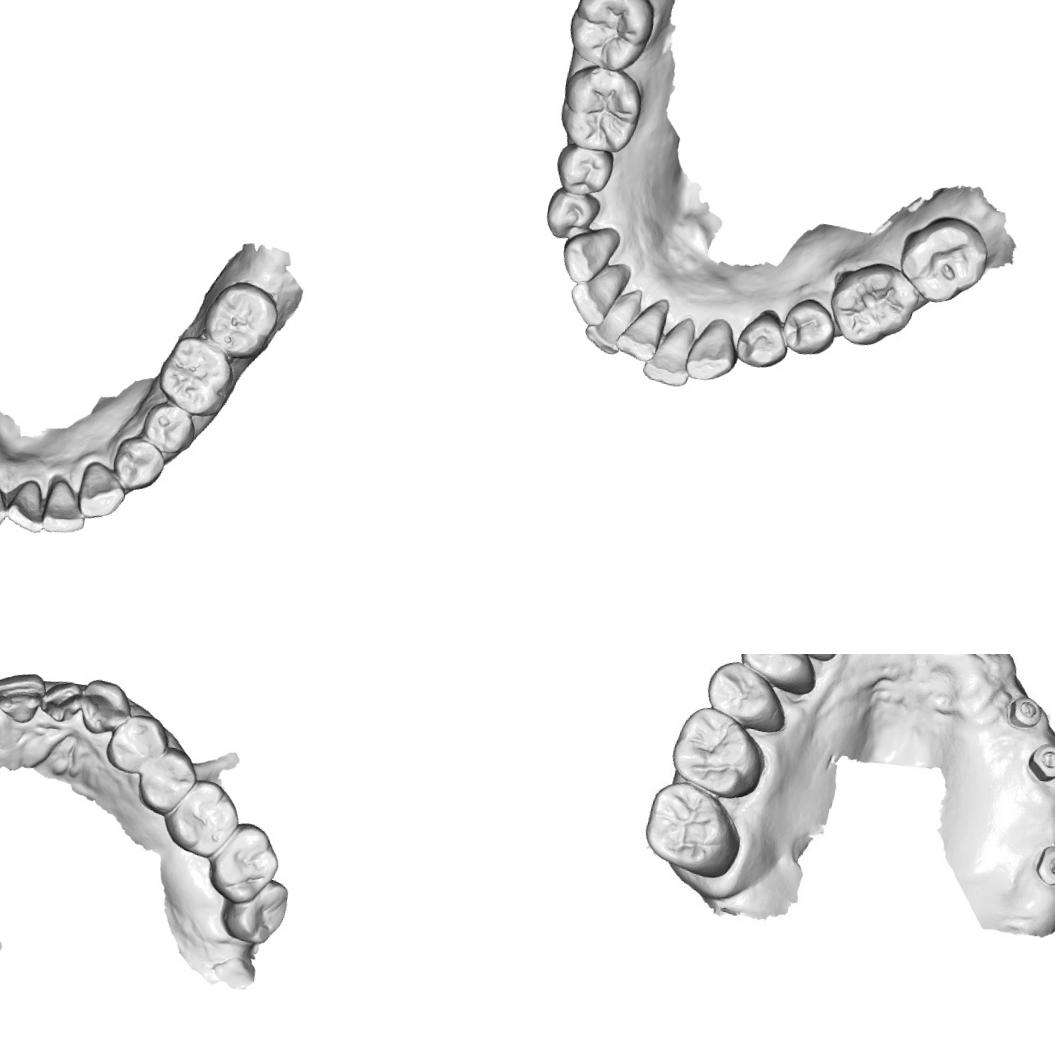canine: (682, 312, 742, 386), (558, 219, 622, 288), (72, 457, 130, 525), (76, 676, 135, 739)
implant: (1002, 692, 1046, 735), (1026, 741, 1055, 787), (1030, 839, 1055, 892)
incisor: (581, 282, 645, 358), (565, 262, 629, 331), (614, 293, 673, 365), (642, 316, 699, 388), (38, 474, 94, 539), (3, 475, 52, 539), (0, 665, 49, 726), (37, 677, 85, 726), (0, 464, 14, 531)
molar: (640, 780, 750, 884), (666, 701, 772, 804), (890, 208, 995, 310), (548, 58, 649, 160), (822, 254, 922, 353), (152, 332, 241, 423), (198, 274, 284, 366), (202, 816, 285, 909), (160, 774, 246, 863), (562, 0, 659, 77), (217, 872, 293, 948)
premolar: (700, 656, 791, 735), (134, 742, 202, 820), (101, 708, 173, 779), (730, 306, 791, 374), (136, 398, 201, 460), (551, 142, 616, 202), (108, 433, 168, 496), (780, 295, 838, 360), (541, 185, 602, 246), (735, 654, 818, 692)
